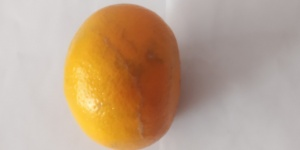BAD: (63, 2, 189, 150)
